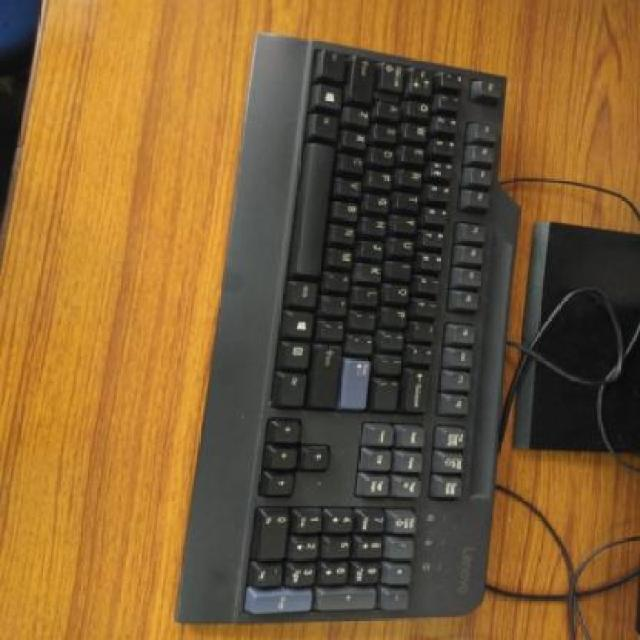keyboard: (175, 33, 510, 620)
